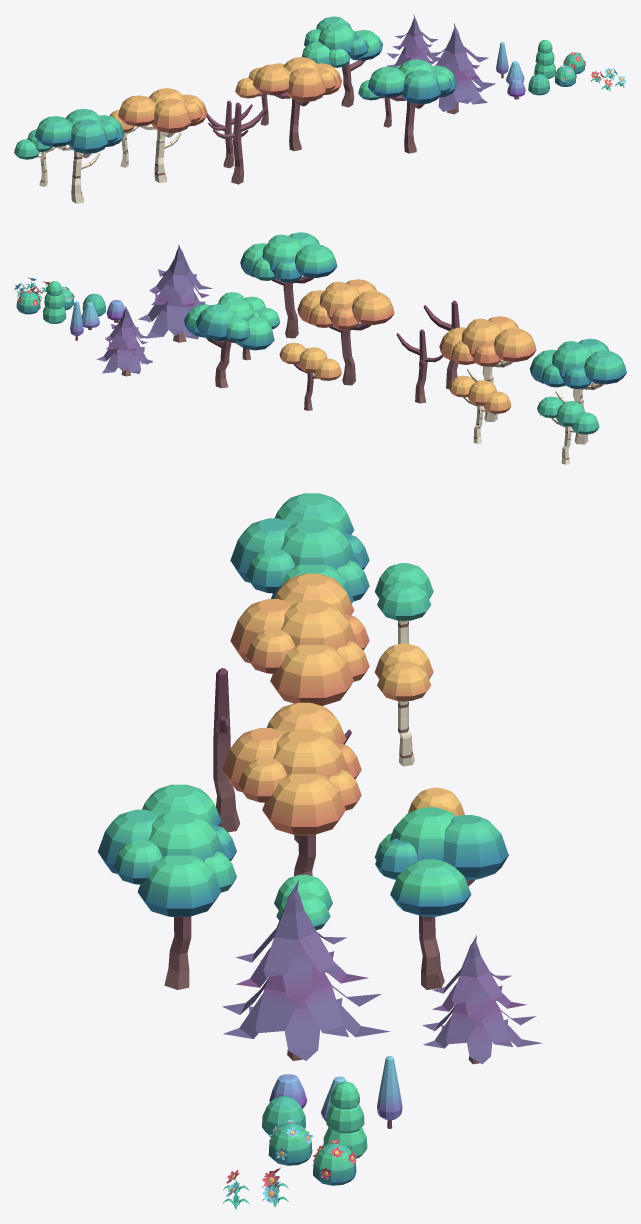
File: Plants.fbx
3 renders of one model, top to bottom at view 1: azimuth 30°, elevation 25°; view 2: azimuth 150°, elevation 25°; view 3: azimuth 270°, elevation 25°, orthographic. The views are drawn at different scales.
Visible parts, largest first — view 1: Birch.001, Birch, tree.001, tree.002, tree.003, Spruce, small pruce, tree, small birch, small tree.001, small tree.002, bush.006 (+7 smaller); view 2: tree.002, tree.001, Birch, Birch.001, tree.003, Spruce, small pruce, small tree.002, small birch, small birch.001, small tree.001, bush.006 (+5 smaller); view 3: tree.002, tree.001, Birch, Spruce, tree.003, Birch.001, small pruce, small birch.001, small birch, tree, bush.006, small tree (+5 smaller).
Boxes of the visible parts, left/top/right/bottom form: Birch.001: left=35, top=108, right=124, bottom=203; Birch: left=118, top=88, right=207, bottom=182; tree.001: left=252, top=57, right=341, bottom=151; tree.002: left=368, top=59, right=456, bottom=153; tree.003: left=301, top=16, right=382, bottom=107; Spruce: left=427, top=23, right=495, bottom=114; small pruce: left=386, top=14, right=439, bottom=67; tree: left=213, top=102, right=266, bottom=184; small birch: left=14, top=129, right=55, bottom=186; small tree.001: left=206, top=100, right=252, bottom=168; small tree.002: left=235, top=63, right=284, bottom=125; bush.006: left=534, top=40, right=555, bottom=78; tree.002: left=240, top=232, right=337, bottom=338; tree.001: left=297, top=279, right=394, bottom=385; Birch: left=439, top=316, right=536, bottom=421; Birch.001: left=530, top=338, right=626, bottom=444; tree.003: left=184, top=296, right=274, bottom=388; Spruce: left=138, top=244, right=212, bottom=342; small pruce: left=96, top=306, right=152, bottom=376; small tree.002: left=279, top=342, right=341, bottom=410; small birch: left=537, top=396, right=599, bottom=464; small birch.001: left=449, top=375, right=511, bottom=443; small tree.001: left=396, top=329, right=443, bottom=403; bush.006: left=43, top=281, right=66, bottom=323; tree.002: left=97, top=784, right=236, bottom=989; tree.001: left=222, top=702, right=361, bottom=876; Birch: left=230, top=573, right=369, bottom=705; Spruce: left=222, top=880, right=390, bottom=1060; tree.003: left=374, top=807, right=508, bottom=989; Birch.001: left=230, top=493, right=369, bottom=603; small pruce: left=422, top=935, right=542, bottom=1064; small birch.001: left=374, top=643, right=433, bottom=766; small birch: left=374, top=563, right=433, bottom=643; tree: left=213, top=668, right=239, bottom=832; bush.006: left=323, top=1081, right=367, bottom=1158; small tree: left=274, top=874, right=332, bottom=930.
Size of the model in its own units: 35.11 by 15.65 by 104.
